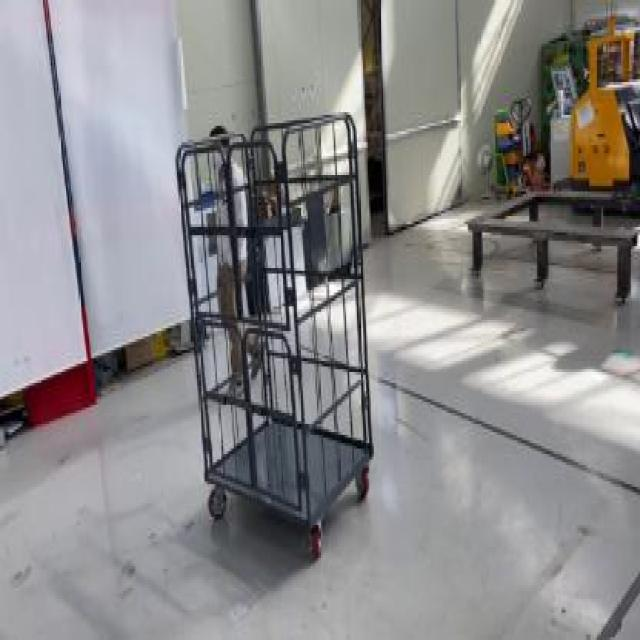cart: (172, 126, 380, 547)
person: (200, 118, 266, 424)
robot: (564, 14, 638, 224)
